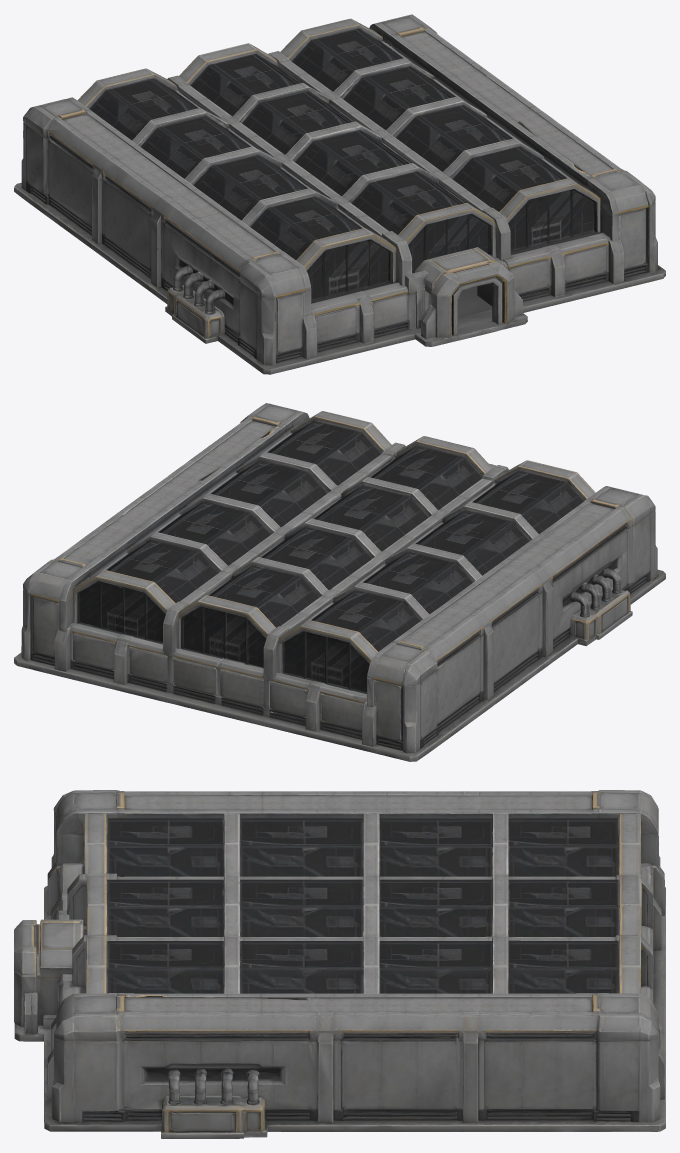
File: imperial_hydroponic_bay.glb
3 views of the same model, one above another, from view 1: azimuth 30°, elevation 25°; view 2: azimuth 150°, elevation 25°; view 3: azimuth 270°, elevation 25° (orthographic). The views are drawn at different scales.
Parts seen in each view (by area): view 1: mesh_node; view 2: mesh_node; view 3: mesh_node.
Part boxes in pixels (box(x1,y1,x2,y2)): mesh_node: box(14, 14, 665, 374); mesh_node: box(14, 403, 665, 761); mesh_node: box(14, 790, 665, 1138).
Size of the model in its own units: 22.88 by 5.09 by 24.66.
1 material, 1 textured.
